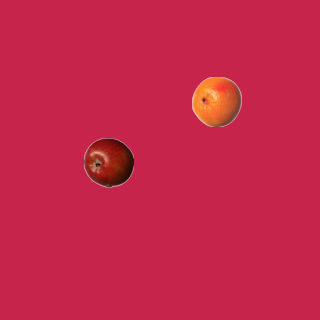Apple Braeburn: (83, 137, 133, 187)
Grapefruit Pink: (191, 76, 241, 126)
